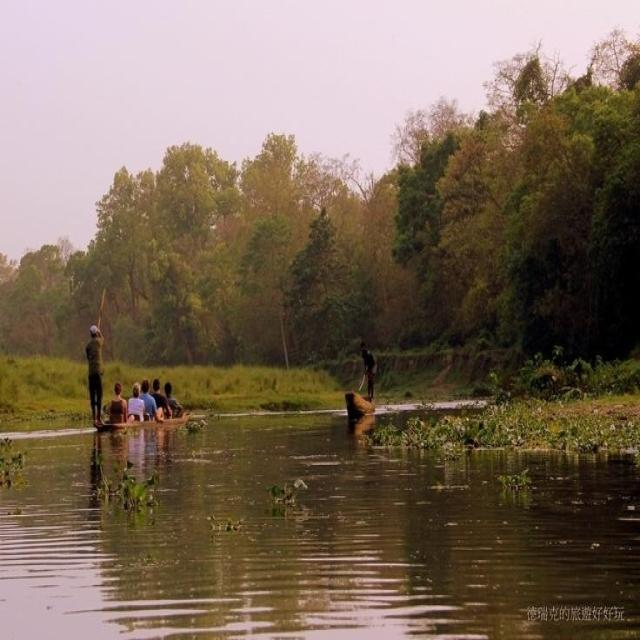Hyacinth: (380, 391, 640, 464), (93, 459, 167, 527), (258, 472, 309, 521)
boat: (332, 391, 498, 426), (96, 409, 216, 433)
